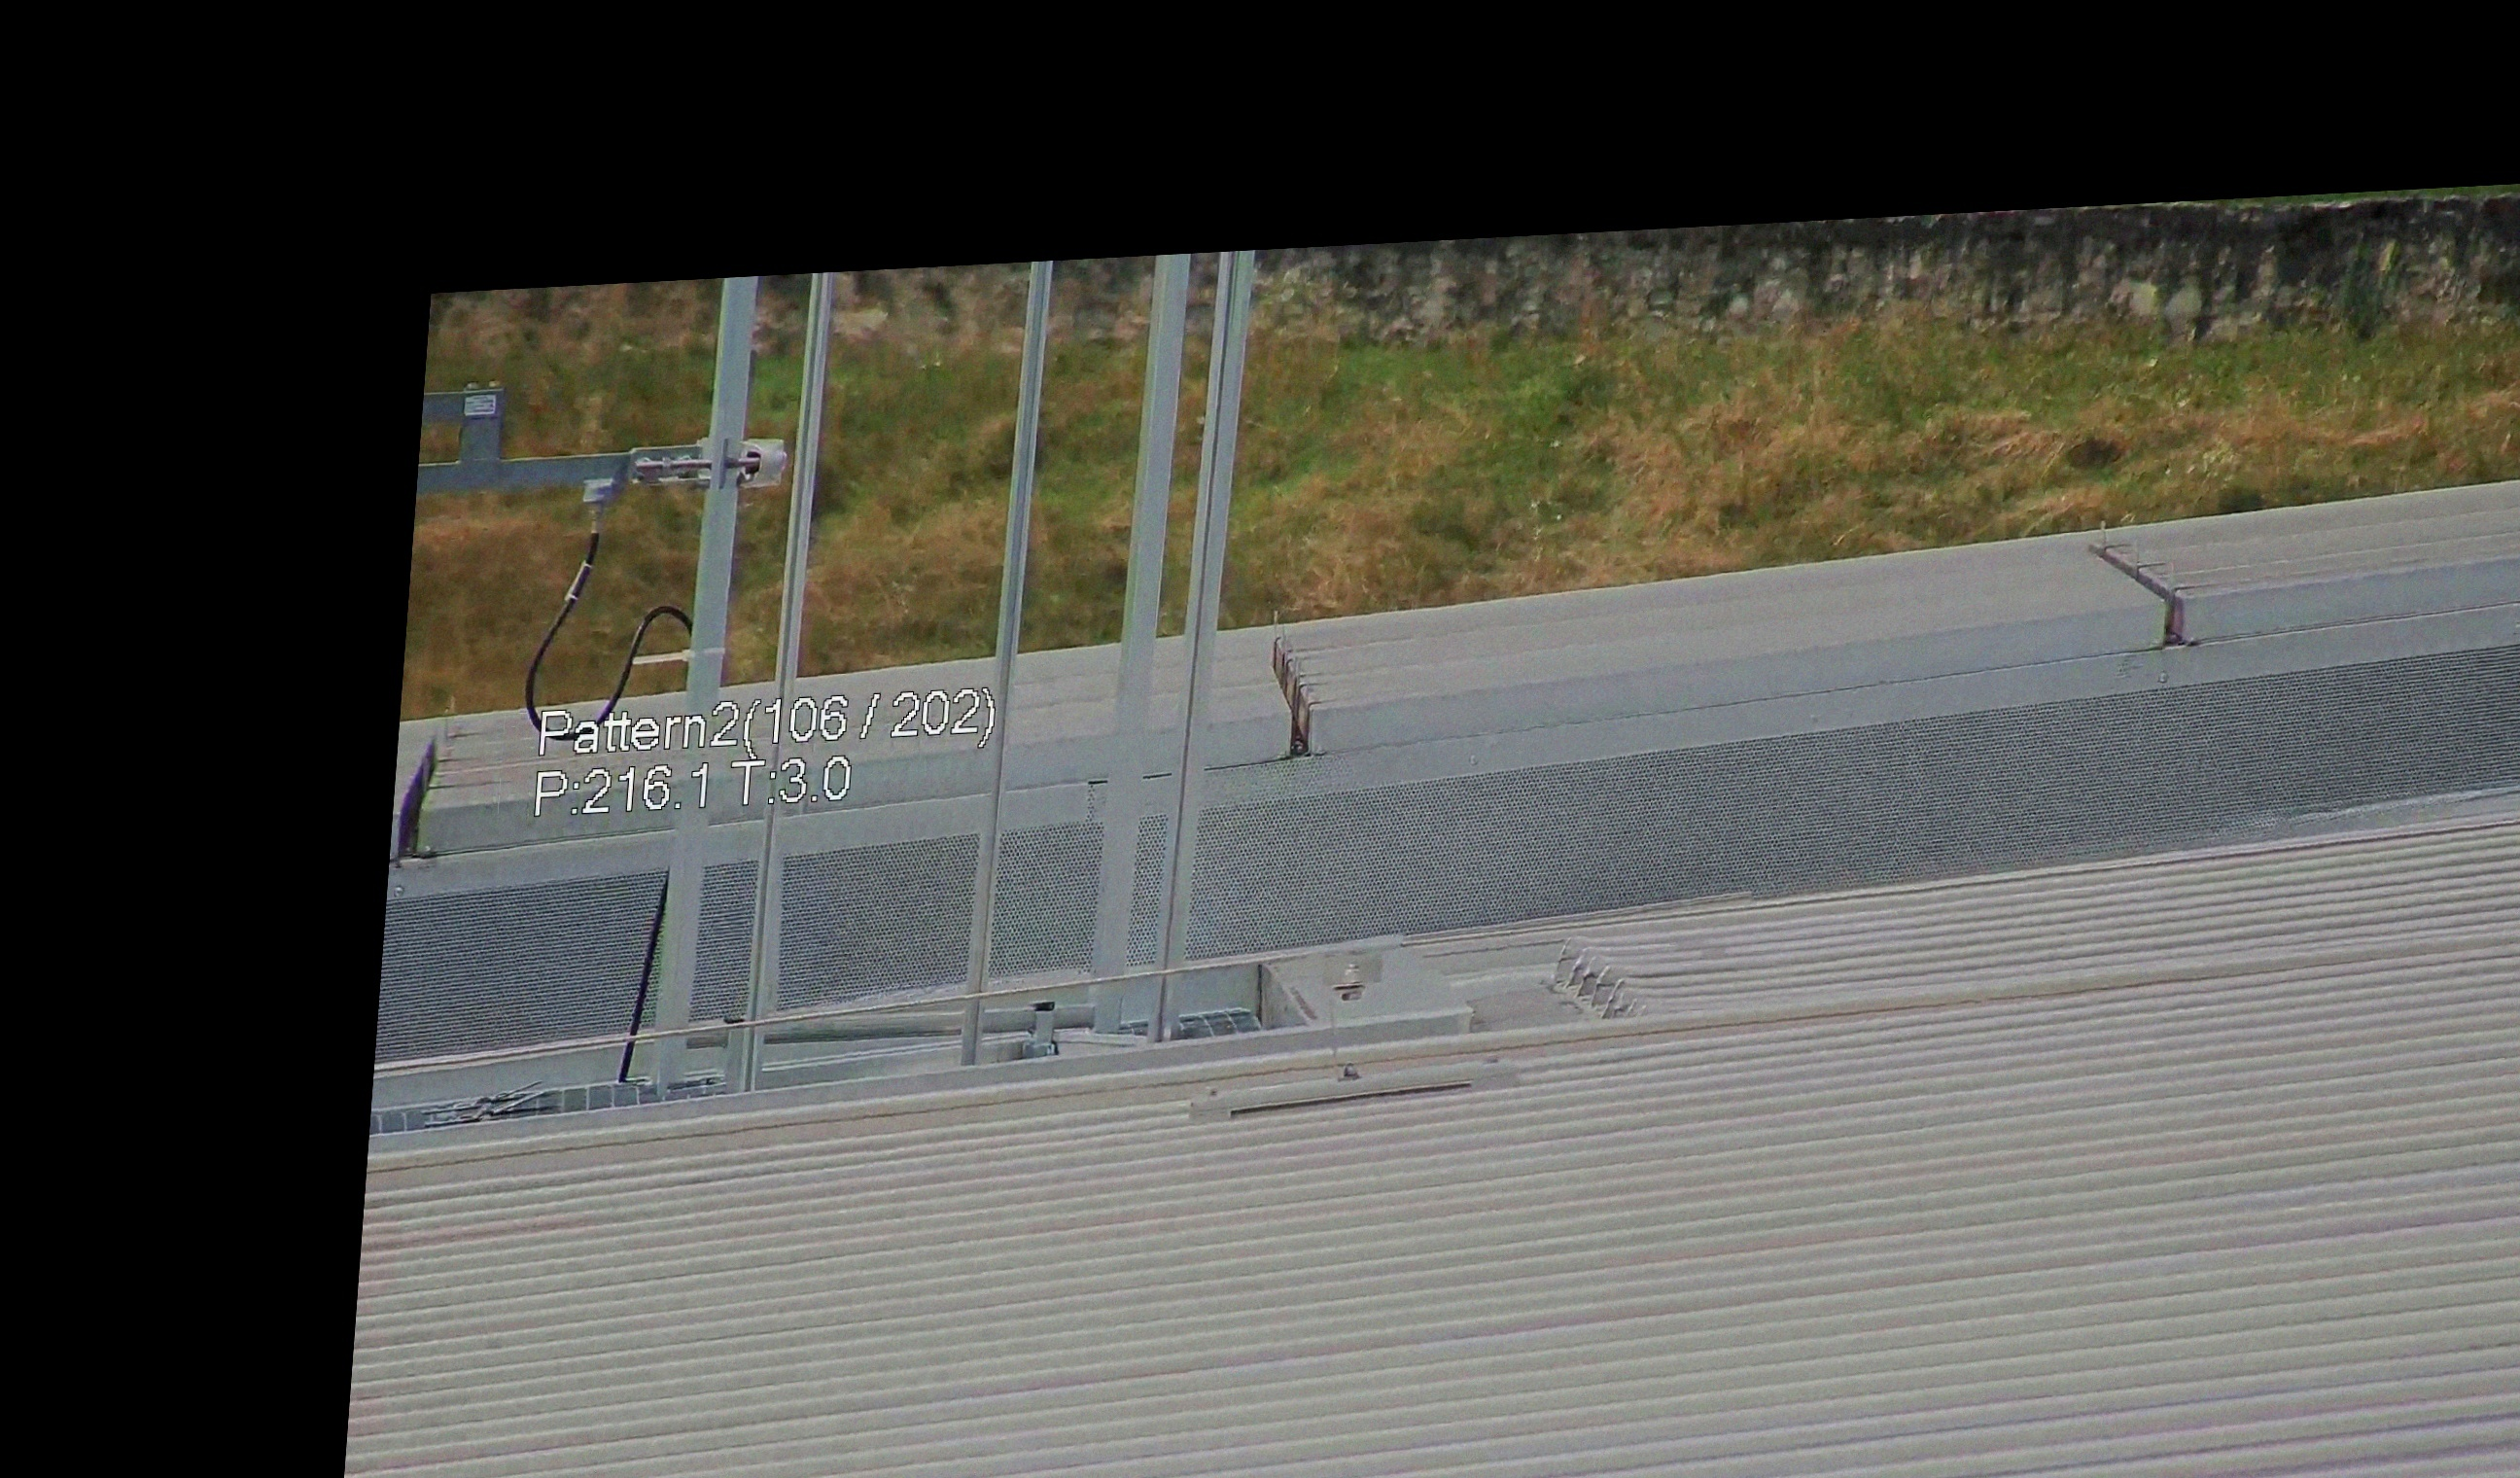Other: (1247, 607, 1345, 762)
